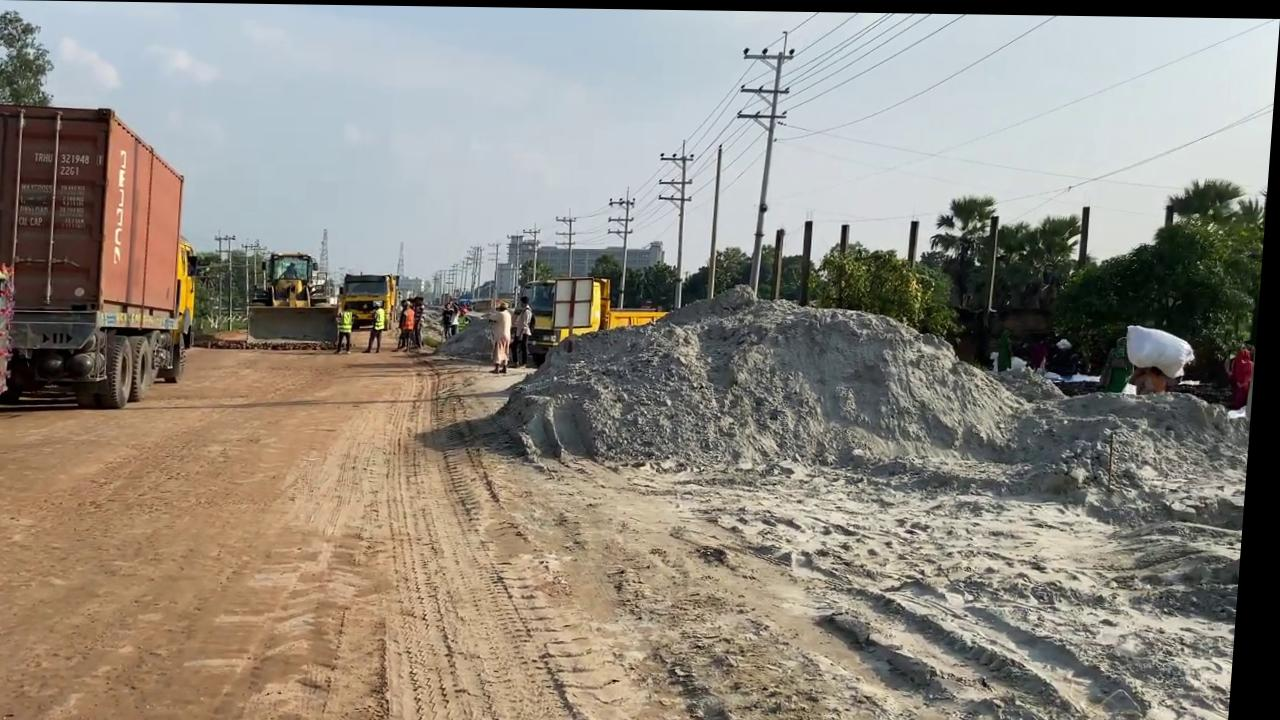Garbage: (498, 285, 1253, 618)
Traffic-sign: (0, 8, 60, 106)
Tree: (0, 101, 212, 412), (518, 272, 678, 367), (248, 249, 349, 347), (157, 235, 204, 382), (340, 270, 405, 330)
